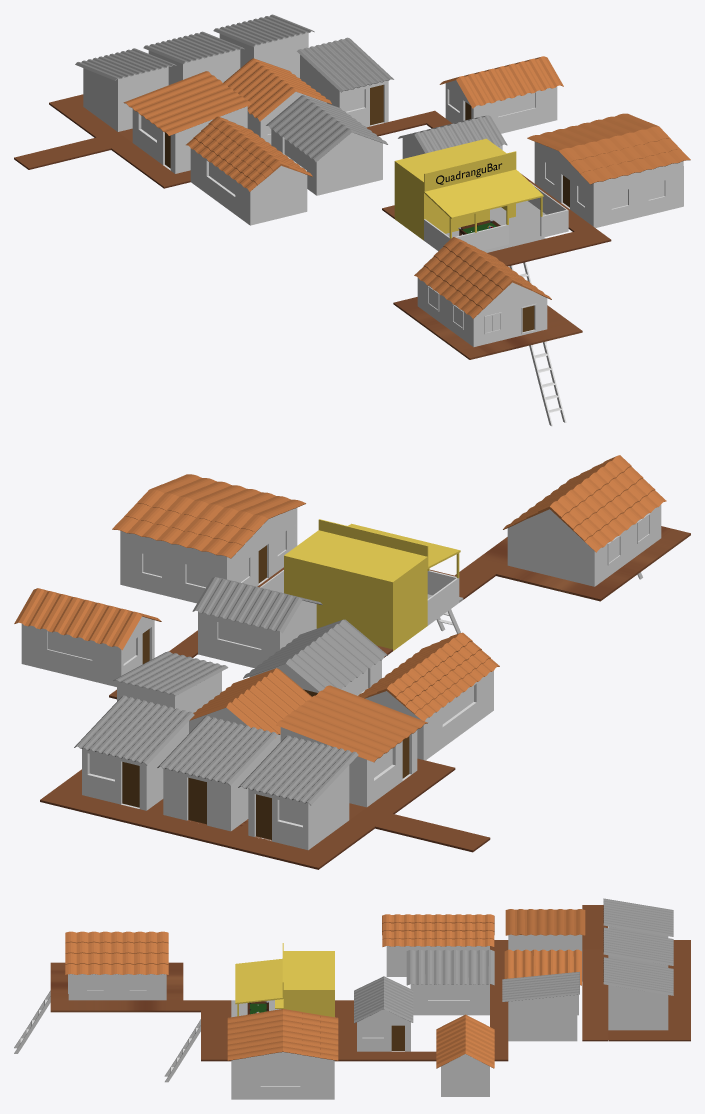
The model's file is palafita.fbx.
3 renders of one model, top to bottom at view 1: azimuth 30°, elevation 25°; view 2: azimuth 150°, elevation 25°; view 3: azimuth 270°, elevation 25°, orthographic. The views are drawn at different scales.
Parts seen in each view (by area): view 1: bar, casa 2, Ponte, Casa 1, casa 8, casa 6, casa 9, casa 3, casa 4, casa 10, casa 7, casa 125 (+3 smaller); view 2: casa 2, Ponte, bar, Casa 1, casa 3, casa 10, casa 8, casa 9, casa 11, casa 125, casa 5, casa 6 (+2 smaller); view 3: Ponte, casa 2, Casa 1, bar, casa 6, casa 4, casa 8, casa 125, casa 3, casa 5, casa 9, casa 11 (+4 smaller).
Boxes of the visible parts, box(x1,y1,x2,y2) form: bar: box(394, 138, 568, 252); casa 2: box(527, 113, 690, 227); Ponte: box(14, 94, 611, 359); Casa 1: box(414, 237, 551, 346); casa 8: box(186, 116, 312, 225); casa 6: box(266, 95, 387, 195); casa 9: box(123, 71, 251, 173); casa 3: box(439, 56, 563, 133); casa 4: box(297, 37, 393, 127); casa 10: box(75, 48, 176, 131); casa 7: box(223, 58, 331, 144); casa 125: box(213, 14, 314, 77); casa 2: box(112, 474, 305, 603); Ponte: box(40, 526, 690, 869); bar: box(260, 519, 463, 650); Casa 1: box(503, 455, 666, 586); casa 3: box(14, 588, 161, 686); casa 10: box(238, 735, 358, 850); casa 8: box(358, 632, 499, 760); casa 9: box(276, 685, 427, 807); casa 11: box(157, 715, 277, 831); casa 125: box(74, 695, 194, 810); casa 5: box(192, 577, 322, 668); casa 6: box(243, 619, 387, 696); Ponte: box(50, 905, 690, 1061); casa 2: box(227, 1009, 338, 1099); Casa 1: box(65, 931, 168, 1000); bar: box(231, 943, 334, 1017); casa 6: box(406, 949, 494, 1015); casa 4: box(502, 971, 579, 1041); casa 8: box(382, 914, 494, 976); casa 125: box(603, 957, 673, 1030); casa 3: box(436, 1014, 494, 1096); casa 5: box(354, 976, 413, 1051); casa 9: box(505, 909, 585, 981); casa 11: box(603, 927, 673, 967).
Bounding box in the file's own units: 1248 × 346 × 1828.
